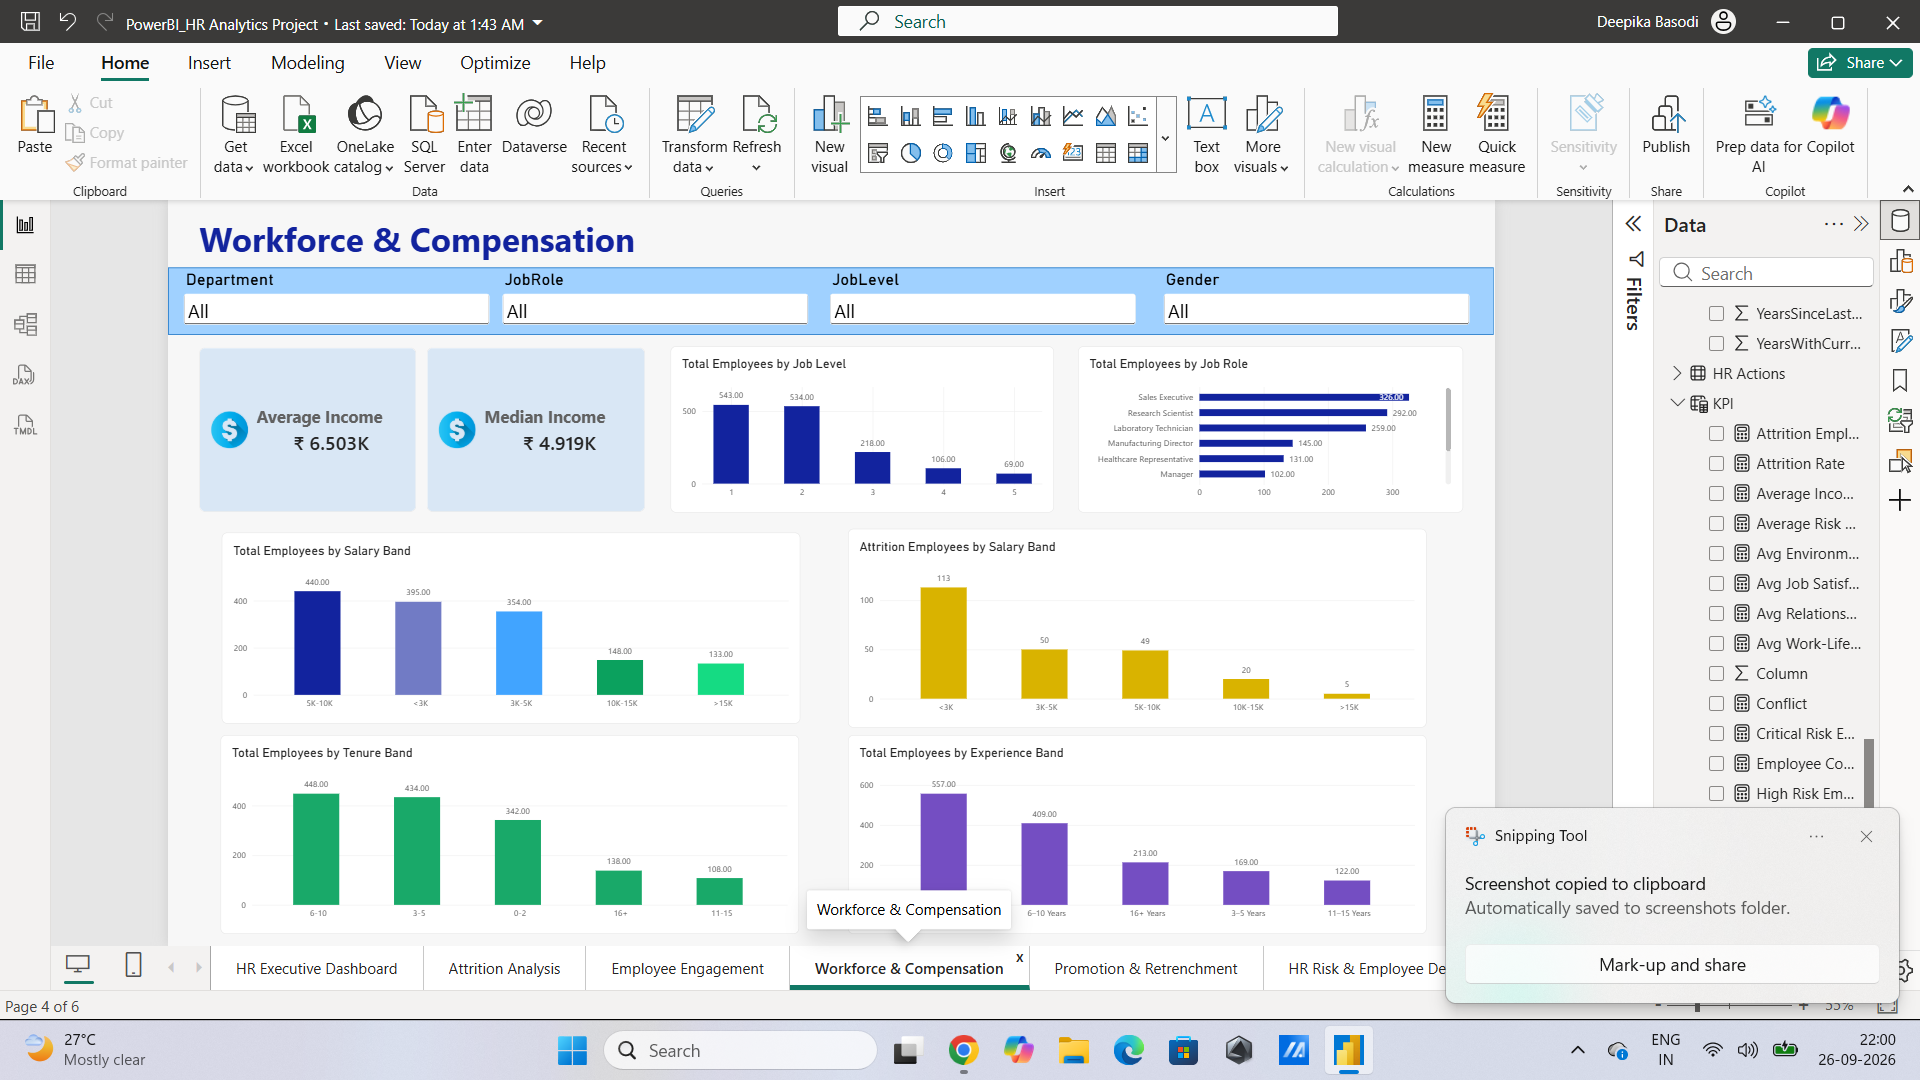

The page's visual inventory and layout, read from the dashboard file:
{"tool":"powerbi","page":{"name":"Workforce & Compensation","canvas":[1920,1080],"ordinal":3},"visuals":[{"type":"shape","box":[0,97.4,1919.6,97.4],"z":0},{"type":"textbox","box":[45.4,23.8,644.9,73.6],"z":1000},{"type":"slicer","fields":{"Values":["HR.Department"]},"box":[17.3,101.7,452.3,110.4],"z":2000},{"type":"slicer","fields":{"Values":["HR.JobRole"]},"box":[480.4,101.7,452.3,110.4],"z":3000},{"type":"slicer","fields":{"Values":["HR.JobLevel"]},"box":[954.4,101.7,452.3,110.4],"z":4000},{"type":"slicer","fields":{"Values":["HR.Gender"]},"box":[1437,101.7,452.3,110.4],"z":5000},{"type":"cardVisual","title":"Average Monthly Income","fields":{"Data":["KPI.Average Income"]},"box":[45.4,214.3,314.9,238.9],"z":6000},{"type":"cardVisual","fields":{"Data":["KPI.Median Income"]},"box":[374.4,214.3,316.7,238.9],"z":7000},{"type":"clusteredColumnChart","title":"Total Employees by Job Level","fields":{"Category":["HR.JobLevel"],"Y":["KPI.Total Employees"]},"box":[727.5,211.7,555.6,240.7],"z":8000},{"type":"clusteredBarChart","title":"Total Employees by Job Role","fields":{"Category":["HR.JobRole"],"Y":["KPI.Total Employees"]},"box":[1317.4,211.7,557.4,240.7],"z":9000},{"type":"clusteredColumnChart","fields":{"Category":["HR.Salary Band"],"Y":["KPI.Total Employees"]},"box":[77.8,481.4,837.9,276.9],"z":10000},{"type":"clusteredColumnChart","fields":{"Category":["HR.Tenure Band"],"Y":["KPI.Total Employees"]},"box":[76,774.5,837.9,287.7],"z":11000},{"type":"clusteredColumnChart","fields":{"Category":["HR.Experience Band"],"Y":["KPI.Total Employees"]},"box":[984.5,774.5,837.9,287.7],"z":12000},{"type":"clusteredColumnChart","fields":{"Category":["HR.Salary Band"],"Y":["KPI.Attrition Employees"]},"box":[984.5,475.9,837.5,287.8],"z":13000}]}

Visuals, with their boxes on the page's 1920x1080 design canvas (x1, y1, x2, y2). These are canvas units, not pixel positions in the 1920x1080 screenshot, which may show the page scaled, cropped or inside an application window:
shape: <box>0,97,1920,195</box>
textbox: <box>45,24,690,97</box>
slicer - HR.Department: <box>17,102,470,212</box>
slicer - HR.JobRole: <box>480,102,933,212</box>
slicer - HR.JobLevel: <box>954,102,1407,212</box>
slicer - HR.Gender: <box>1437,102,1889,212</box>
"Average Monthly Income" cardVisual: <box>45,214,360,453</box>
cardVisual - KPI.Median Income: <box>374,214,691,453</box>
"Total Employees by Job Level" clusteredColumnChart: <box>728,212,1283,452</box>
"Total Employees by Job Role" clusteredBarChart: <box>1317,212,1875,452</box>
clusteredColumnChart - HR.Salary Band x KPI.Total Employees: <box>78,481,916,758</box>
clusteredColumnChart - HR.Tenure Band x KPI.Total Employees: <box>76,774,914,1062</box>
clusteredColumnChart - HR.Experience Band x KPI.Total Employees: <box>984,774,1822,1062</box>
clusteredColumnChart - HR.Salary Band x KPI.Attrition Employees: <box>984,476,1822,764</box>
